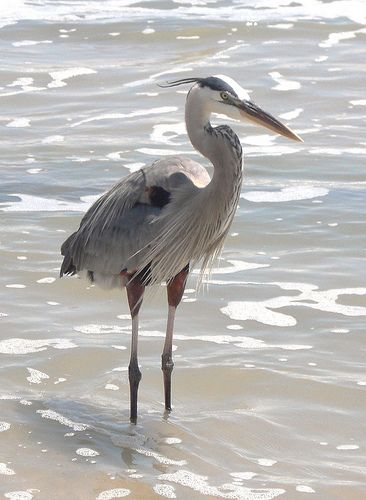heron: (53, 73, 308, 427)
